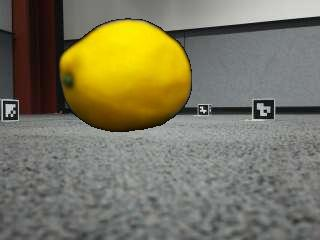lemon: (62, 20, 190, 131)
